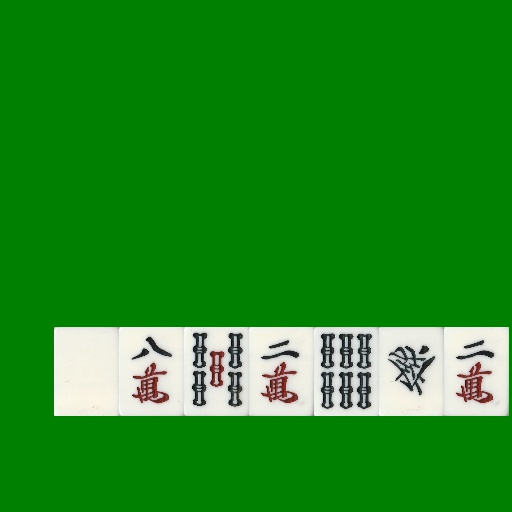2m: (249, 327, 314, 416), (444, 327, 509, 416)
5s: (184, 327, 249, 416)
6s: (314, 327, 379, 416)
8m: (119, 327, 184, 416)
hatsu: (379, 327, 444, 416)
white: (54, 327, 119, 416)
